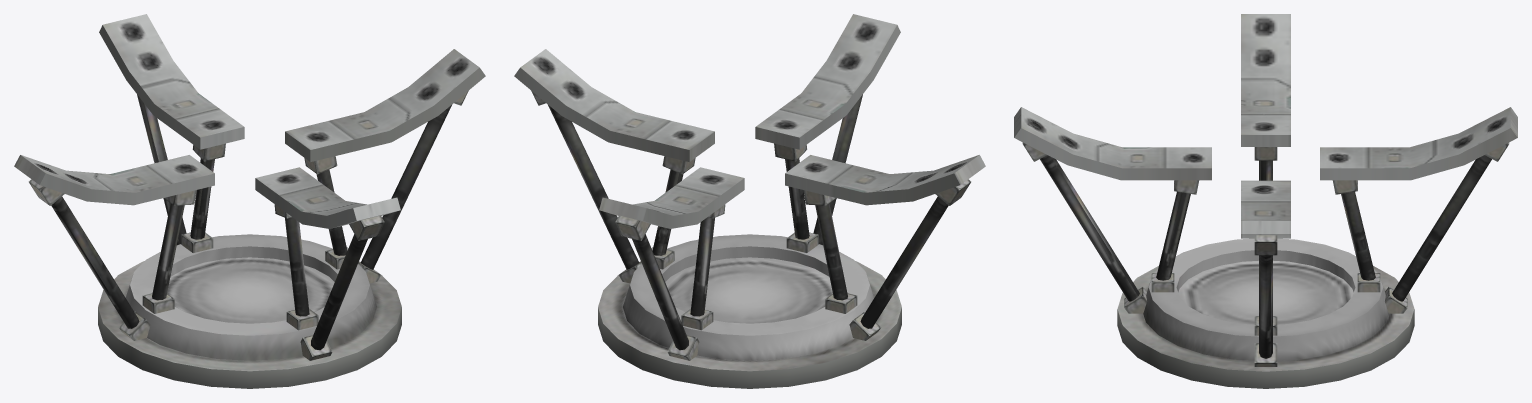
File: coupler.DAE
3 views of the same model, side by side, from view 1: azimuth 30°, elevation 25°; view 2: azimuth 150°, elevation 25°; view 3: azimuth 270°, elevation 25° (orthographic). The views are drawn at different scales.
Parts seen in each view (by area): view 1: base; view 2: base; view 3: base.
Boxes of the visible parts, x1=… form: base: x1=14, y1=14, x2=485, y2=388; base: x1=514, y1=14, x2=985, y2=388; base: x1=1014, y1=14, x2=1517, y2=388.
Size of what is drawn, in the model's own units: 0.8628 by 0.3946 by 0.8628.
